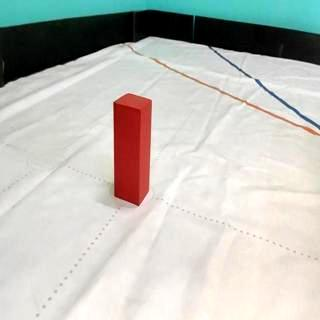redbox: (114, 90, 152, 206)
